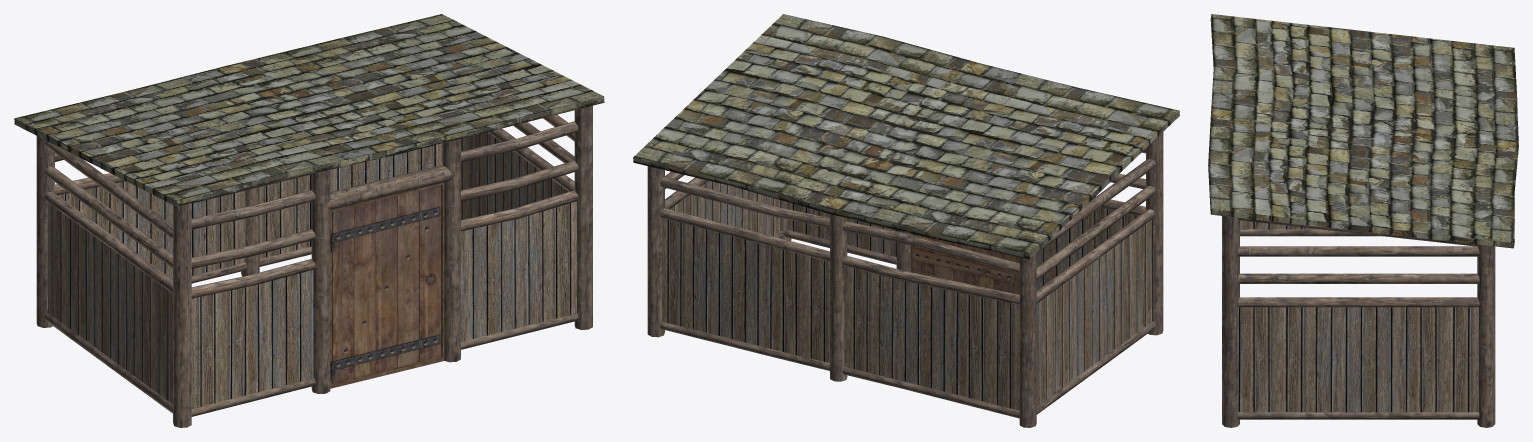
Rendered from Canopy.fbx.
3 renders of one model, left to right at view 1: azimuth 30°, elevation 25°; view 2: azimuth 150°, elevation 25°; view 3: azimuth 270°, elevation 25°, orthographic. The views are drawn at different scales.
Visible parts, largest first — view 1: Canopy, Shingles, Door, _Door_parent; view 2: Canopy, Shingles, Door; view 3: Shingles, Canopy.
Boxes of the visible parts, bbox=[...] form: Canopy: bbox=[36, 105, 592, 427]; Shingles: bbox=[14, 14, 604, 206]; Door: bbox=[331, 185, 441, 383]; _Door_parent: bbox=[330, 182, 444, 388]; Canopy: bbox=[647, 132, 1163, 427]; Shingles: bbox=[633, 14, 1179, 259]; Door: bbox=[912, 234, 1015, 293]; Shingles: bbox=[1208, 14, 1518, 248]; Canopy: bbox=[1222, 216, 1495, 427].
Bounding box in the file's own units: 642 × 338 × 432.
